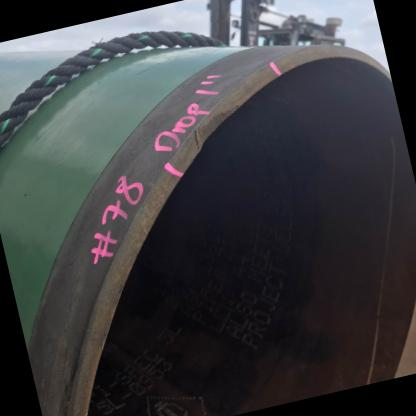Bevel: (184, 126, 209, 154)
